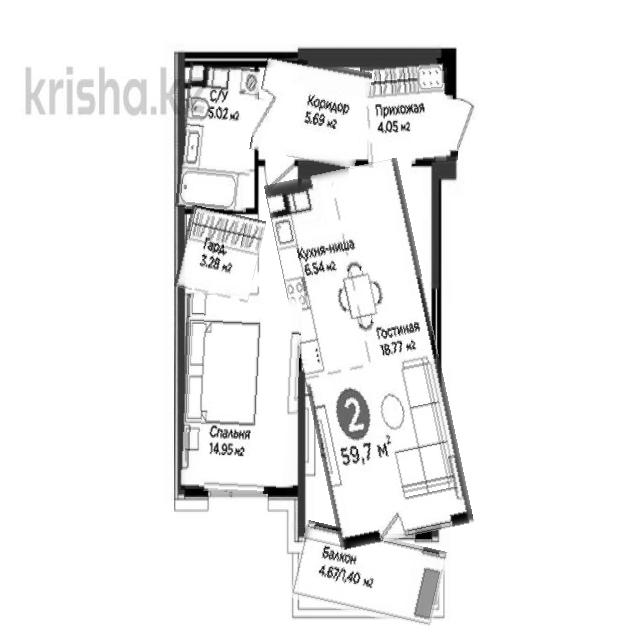balcony: (292, 527, 444, 623)
bathroom: (178, 63, 257, 212)
hallway: (253, 57, 368, 165), (362, 59, 456, 167)
living_room: (179, 296, 300, 494)
other: (178, 209, 262, 299)
studio: (282, 162, 456, 545)
